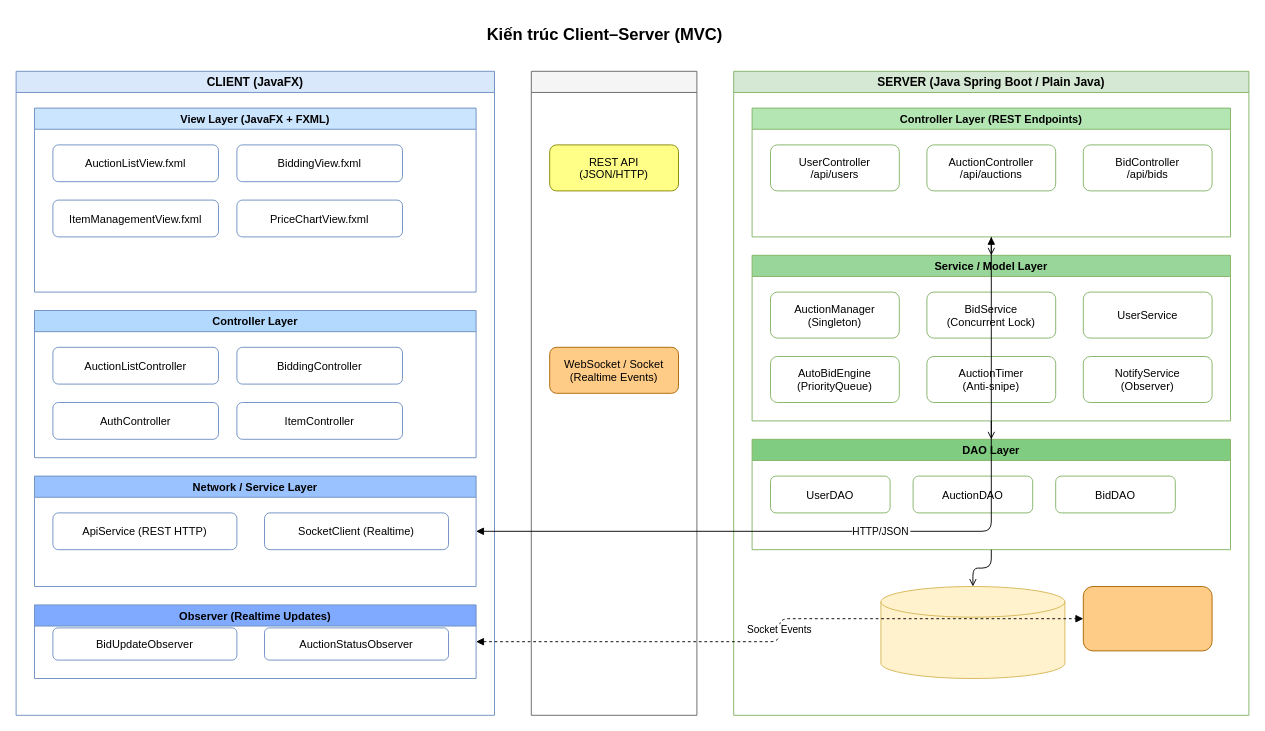
The diagram is 1265 pixels wide and 731 high, and some of its shapes have lost their labels. The shapes that lost their labels are listed below. From the top down, each one's centre as x and y in pixels, then its label:
At point 972,632: "Database (MySQL / PostgreSQL)".
At point 1147,618: "SocketServer (Realtime Push)".
